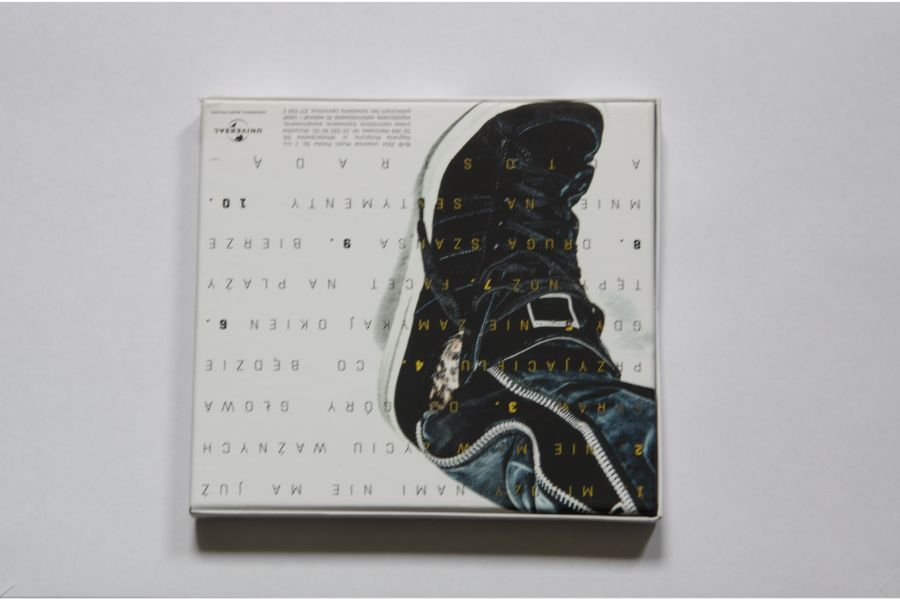album: (189, 96, 661, 524)
